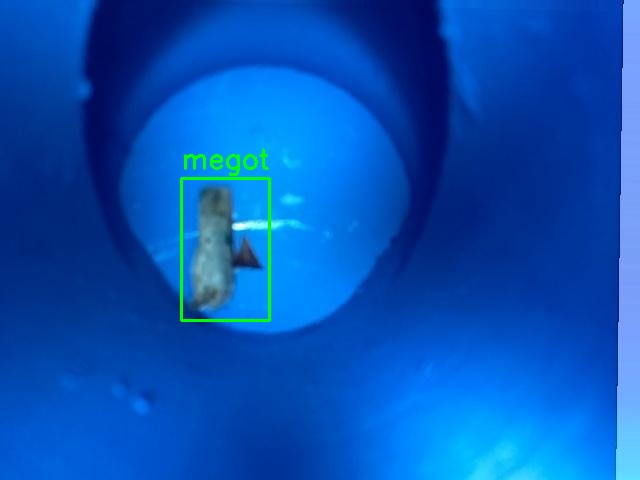megot: (181, 178, 269, 320)
